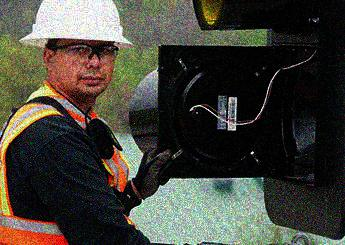helmet: (20, 1, 134, 95)
